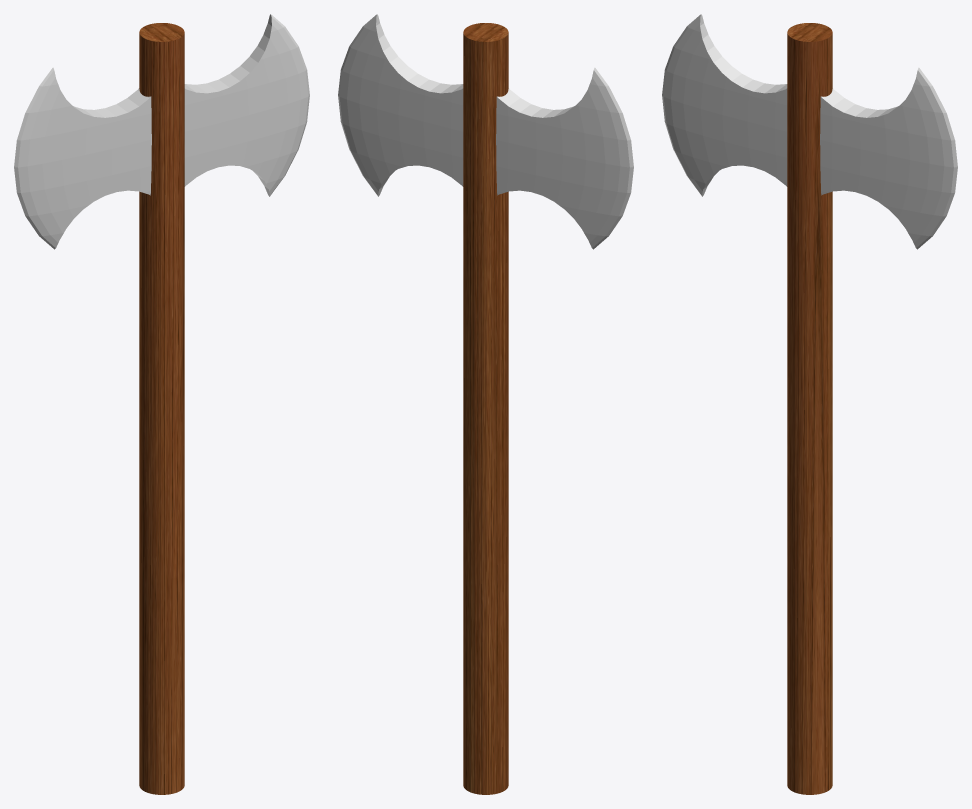
Rendered from 斧試作.fbx.
3 views of the same model, side by side, from view 1: azimuth 30°, elevation 25°; view 2: azimuth 150°, elevation 25°; view 3: azimuth 330°, elevation 25° (orthographic).
Visible parts, largest first — view 1: 円柱, 球; view 2: 円柱, 球; view 3: 円柱, 球.
Boxes of the visible parts, left/top/right/bottom form: 円柱: left=139, top=23, right=184, bottom=794; 球: left=14, top=14, right=309, bottom=249; 円柱: left=463, top=23, right=508, bottom=794; 球: left=338, top=14, right=633, bottom=249; 円柱: left=787, top=23, right=832, bottom=794; 球: left=662, top=14, right=957, bottom=249.
Bounding box in the file's own units: 40.74 × 99.05 × 5.4.
Materials: 2 (1 with a texture image).
